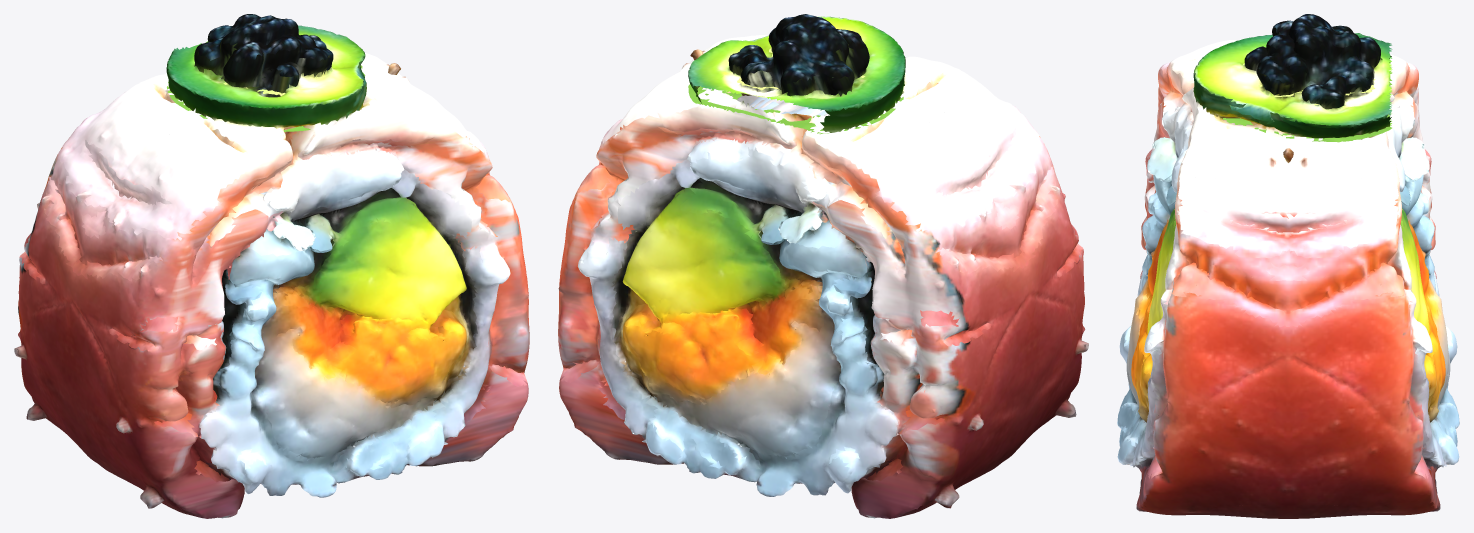
The model's file is jalapeno_roll.glb.
3 views of the same model, side by side, from view 1: azimuth 30°, elevation 25°; view 2: azimuth 150°, elevation 25°; view 3: azimuth 270°, elevation 25° (orthographic). The views are drawn at different scales.
Parts seen in each view (by area): view 1: ing_salmon, ing_rice, ing_avocado, ing_tobiko, ing_crab, ing_jalapeno, ing_blackTobiko, ing_nori, ing_crunch; view 2: ing_salmon, ing_rice, ing_avocado, ing_tobiko, ing_crab, ing_jalapeno, ing_blackTobiko, ing_nori, ing_crunch; view 3: ing_salmon, ing_rice, ing_jalapeno, ing_blackTobiko, ing_tobiko, ing_avocado, ing_crab, ing_crunch.
Part boxes in pixels (x1=…): ing_salmon: x1=14, y1=53, x2=529, y2=518; ing_rice: x1=199, y1=150, x2=510, y2=497; ing_avocado: x1=304, y1=197, x2=466, y2=324; ing_tobiko: x1=271, y1=290, x2=467, y2=405; ing_crab: x1=255, y1=325, x2=435, y2=460; ing_jalapeno: x1=166, y1=25, x2=369, y2=131; ing_blackTobiko: x1=194, y1=14, x2=333, y2=97; ing_nori: x1=220, y1=188, x2=477, y2=368; ing_crunch: x1=273, y1=285, x2=476, y2=408; ing_salmon: x1=558, y1=35, x2=1088, y2=518; ing_rice: x1=578, y1=97, x2=898, y2=496; ing_avocado: x1=622, y1=187, x2=790, y2=318; ing_tobiko: x1=622, y1=280, x2=871, y2=401; ing_crab: x1=654, y1=319, x2=840, y2=458; ing_jalapeno: x1=688, y1=16, x2=905, y2=134; ing_blackTobiko: x1=728, y1=14, x2=869, y2=96; ing_nori: x1=611, y1=178, x2=876, y2=364; ing_crunch: x1=612, y1=278, x2=822, y2=404; ing_salmon: x1=1125, y1=40, x2=1451, y2=518; ing_rice: x1=1117, y1=106, x2=1459, y2=468; ing_jalapeno: x1=1193, y1=33, x2=1392, y2=142; ing_blackTobiko: x1=1244, y1=14, x2=1382, y2=109; ing_tobiko: x1=1131, y1=221, x2=1445, y2=408; ing_avocado: x1=1147, y1=208, x2=1429, y2=334; ing_crab: x1=1124, y1=251, x2=1452, y2=423; ing_crunch: x1=1138, y1=222, x2=1438, y2=422.
Size of the model in its own units: 0.05 by 0.0473 by 0.0343.
1 material, 1 textured.
